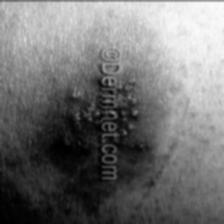Toxin: (43, 10, 178, 208)
